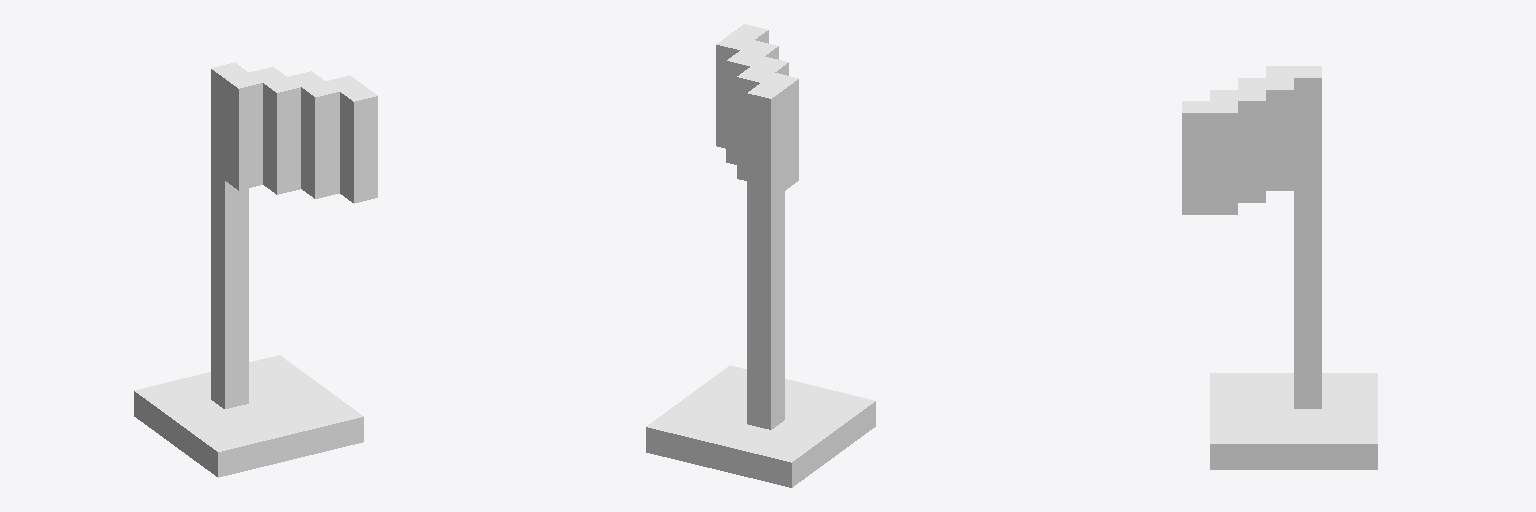
The model's file is flag_red.obj.
3 renders of one model, left to right at view 1: azimuth 30°, elevation 25°; view 2: azimuth 150°, elevation 25°; view 3: azimuth 270°, elevation 25°, orthographic.
Visible parts, largest first — view 1: object 1; view 2: object 1; view 3: object 1.
Boxes of the visible parts, box(x1,y1,x2,y2) form: object 1: box(134, 62, 377, 477); object 1: box(646, 24, 875, 487); object 1: box(1182, 66, 1377, 469).
Bounding box in the file's own units: 0.6 × 1.4 × 0.7.